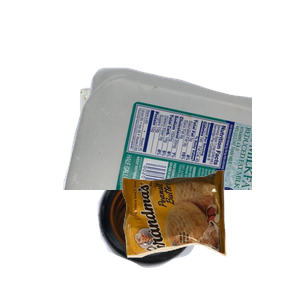cardboard: (77, 79, 251, 227)
glass: (95, 164, 286, 300)
plastic: (60, 65, 300, 245)
trash: (120, 168, 300, 300)
